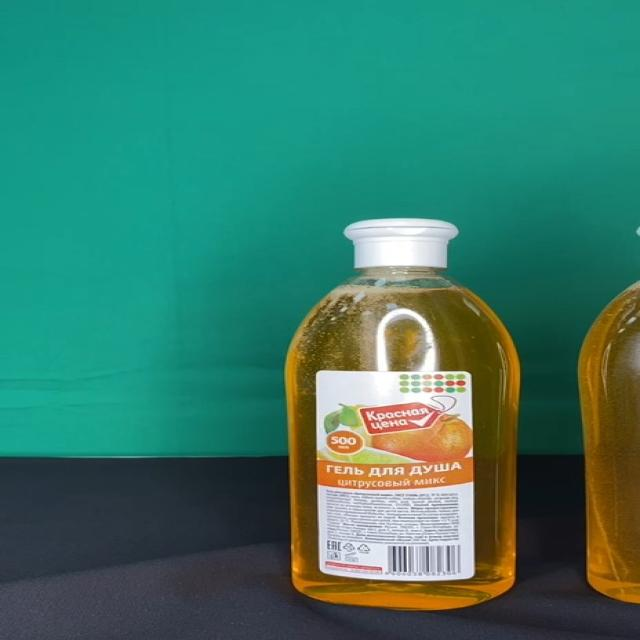Bottle: (286, 217, 520, 611)
Cap: (344, 217, 459, 268)
